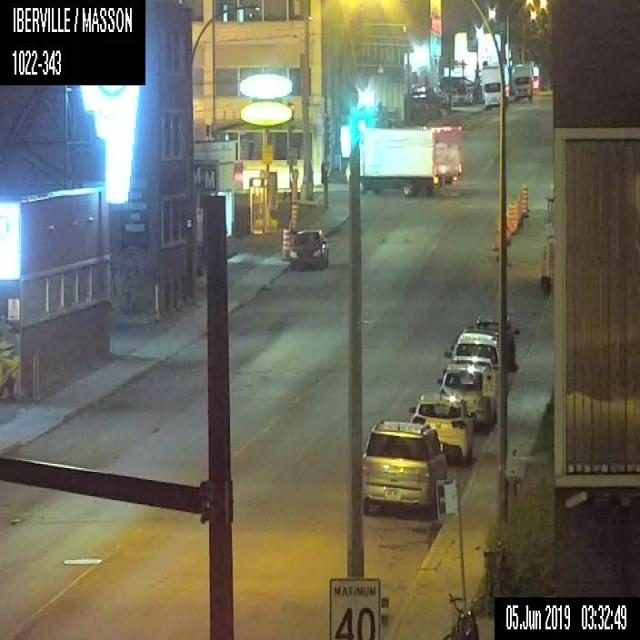construction: (540, 243, 552, 290), (507, 199, 516, 237), (289, 199, 299, 232), (280, 226, 289, 259), (495, 208, 500, 250), (521, 184, 527, 217)
vehicle: (344, 121, 462, 196), (360, 419, 447, 520), (408, 392, 476, 467), (436, 362, 494, 437), (470, 313, 520, 369), (443, 328, 501, 369), (289, 227, 327, 268), (480, 67, 501, 108), (512, 61, 534, 100)
